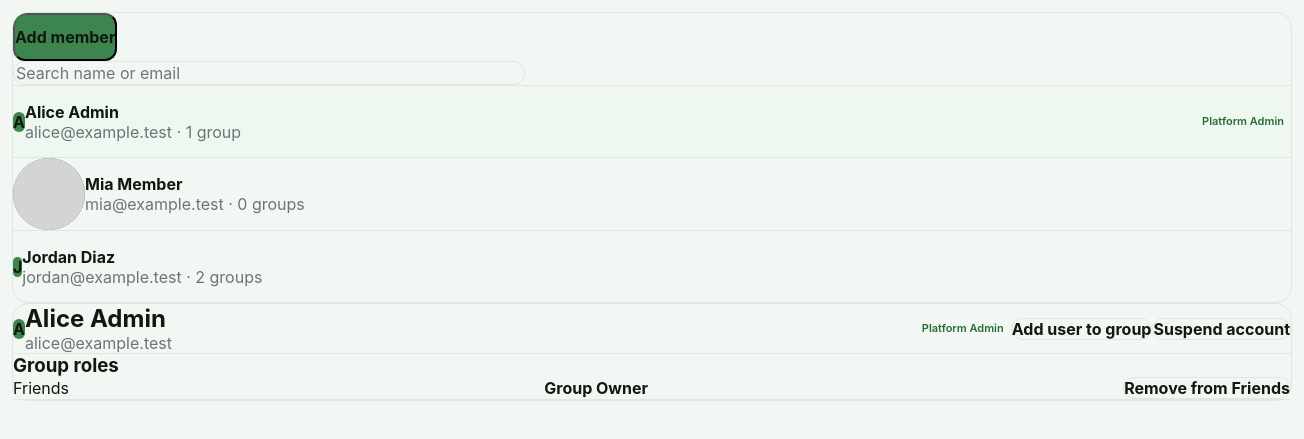
UsersAdminView › shows 'Not in any groups yet.' for a user with zero memberships
Select Mia (second row).
Click the text "Mia Member" at (134, 184), box left=85, top=174, right=182, bottom=194
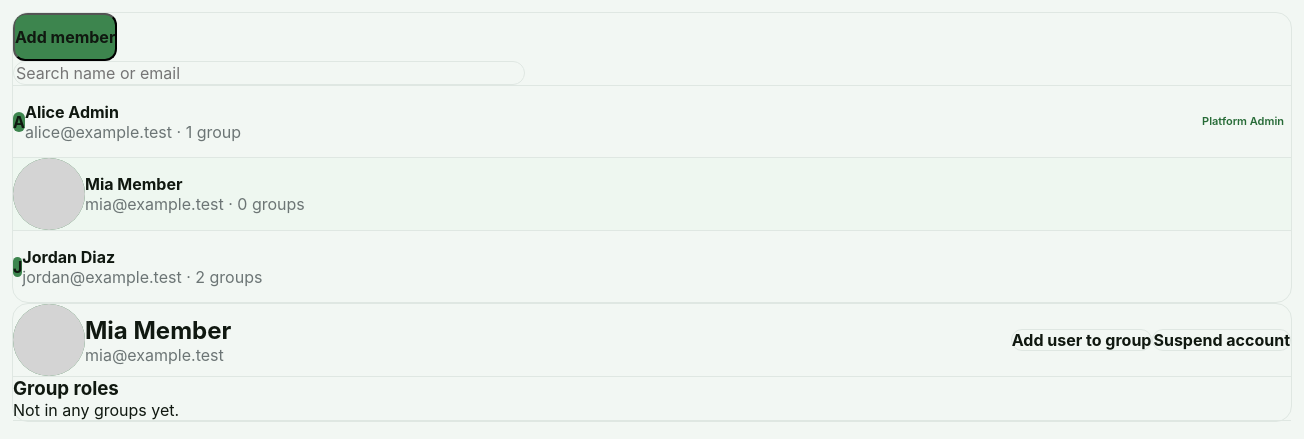
Result: the text "Not in any groups yet." is shown at left=13, top=400, right=179, bottom=420
